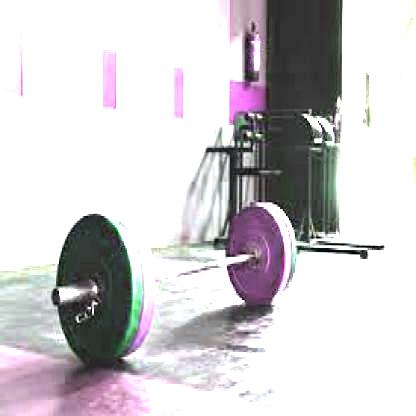Barbell: (48, 277, 63, 309)
